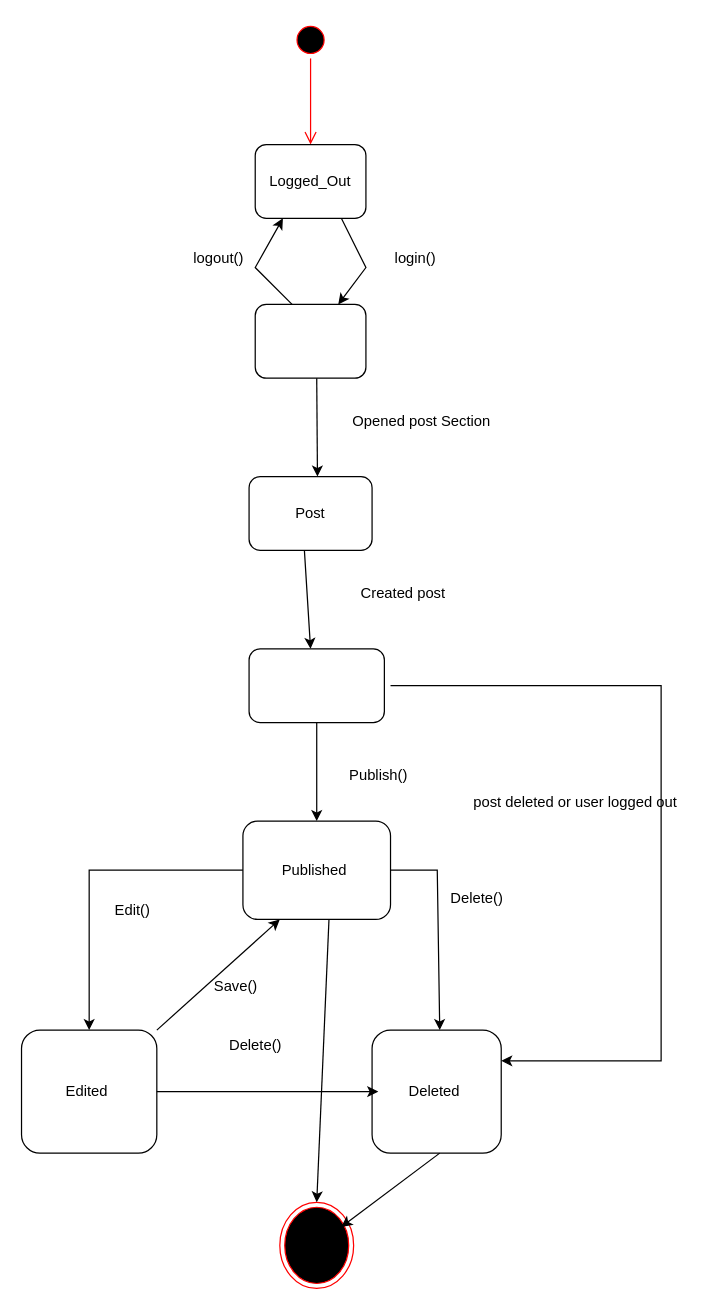
Image size: 713x1310. Some labels were removed from this diagram. The centre of each missing label's shape, as x and y in pixels:
Draft: the point at 316,685
Logged_In: the point at 310,340
